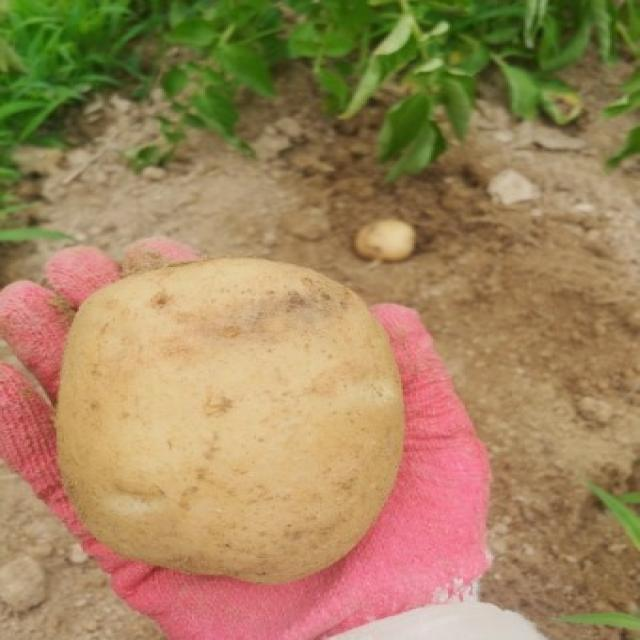potato: (52, 253, 412, 587), (0, 550, 54, 618), (356, 216, 418, 266)
